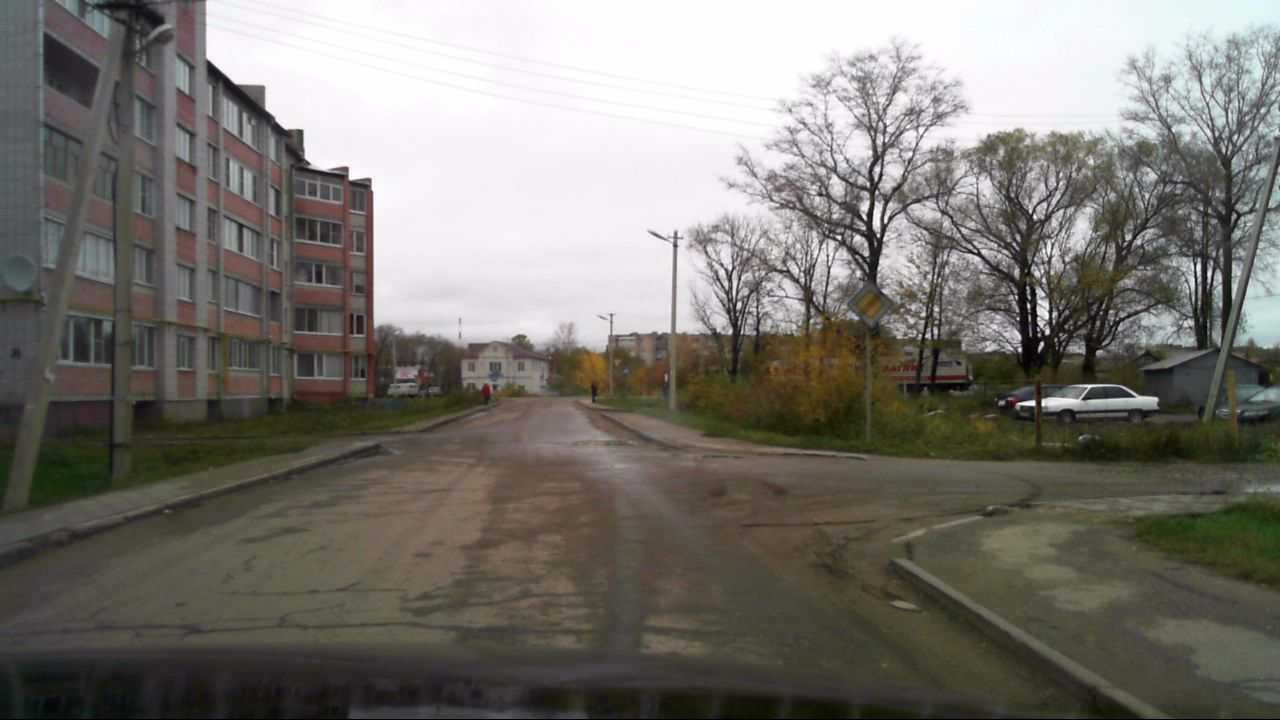main road: (847, 281, 893, 327)
